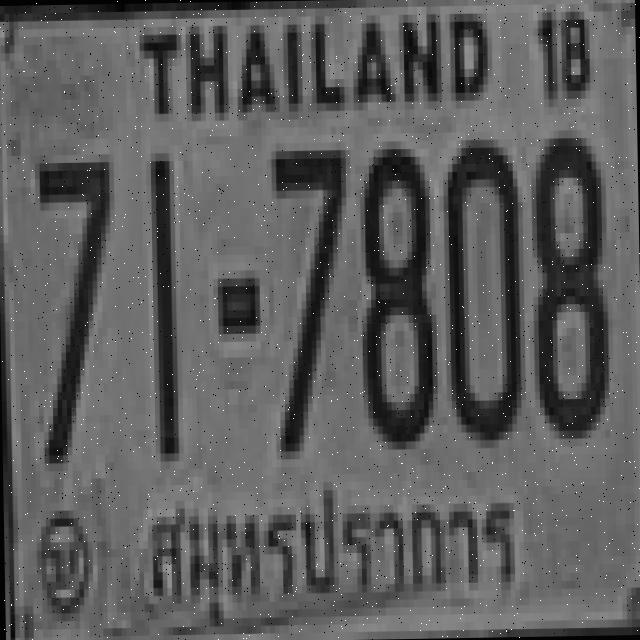0: (444, 131, 520, 440)
1: (148, 149, 176, 457)
7: (34, 154, 114, 463), (266, 142, 345, 451)
8: (354, 140, 433, 442), (528, 130, 607, 430)
SamutPrakan: (132, 469, 532, 632)
